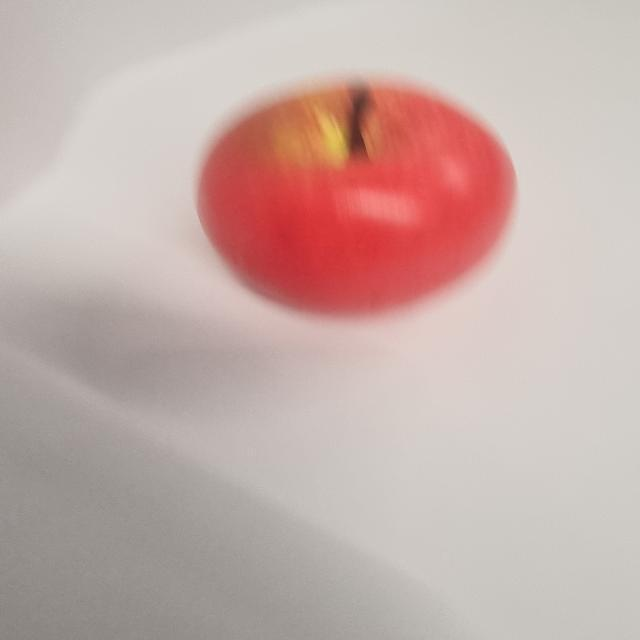apple: (195, 80, 520, 322)
